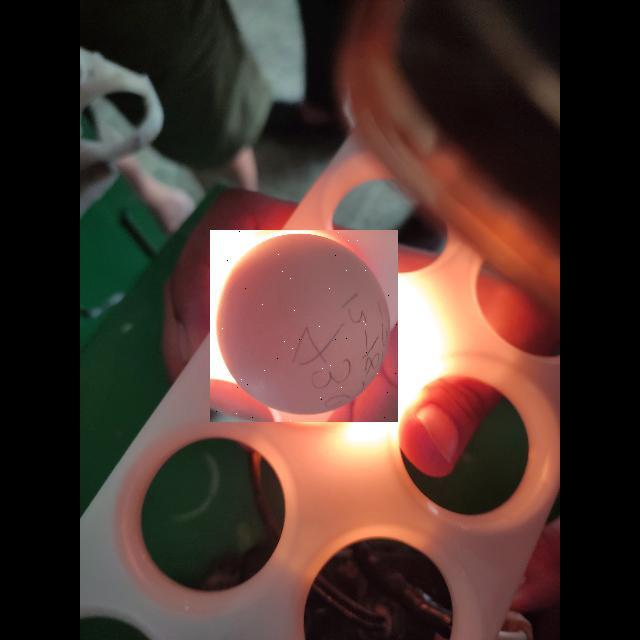Fertile: (210, 230, 398, 422)
